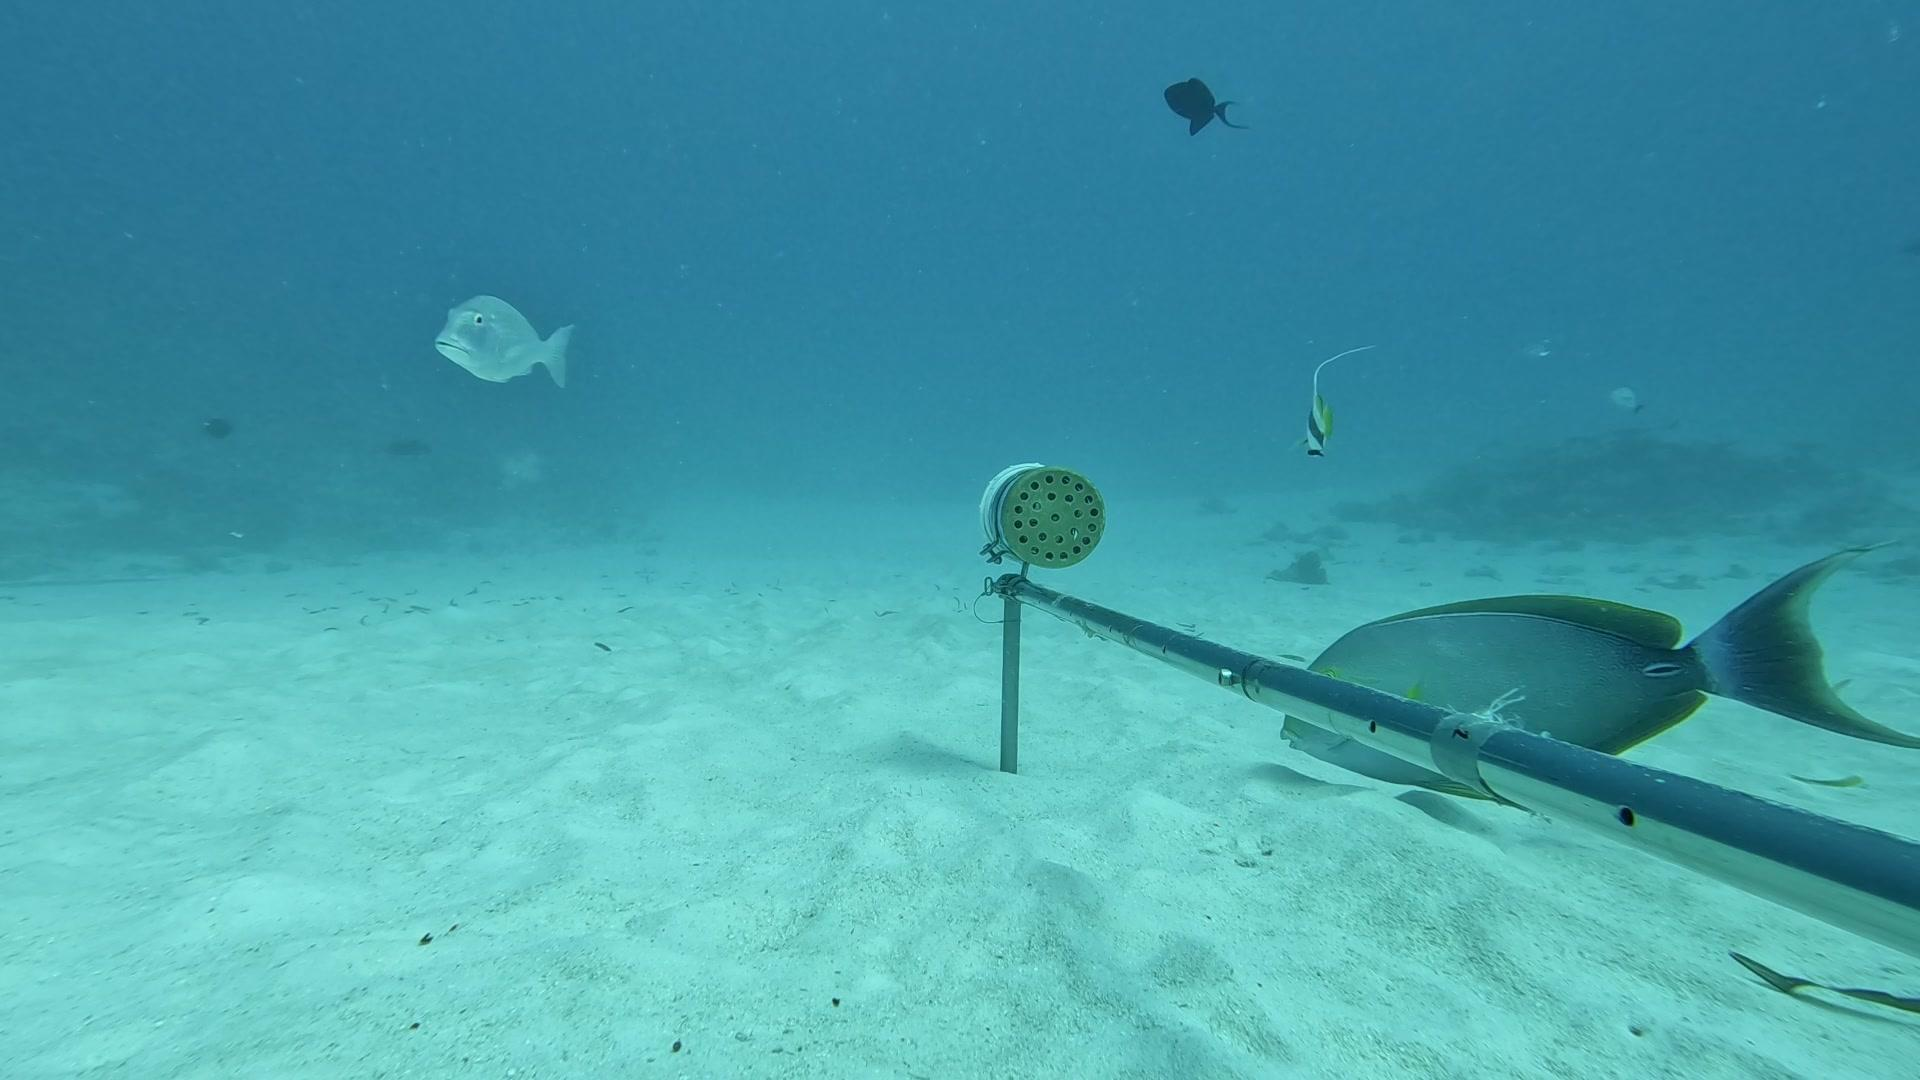fish: (1266, 521, 1904, 803), (418, 269, 593, 422), (1295, 330, 1387, 469), (1146, 58, 1257, 160)
